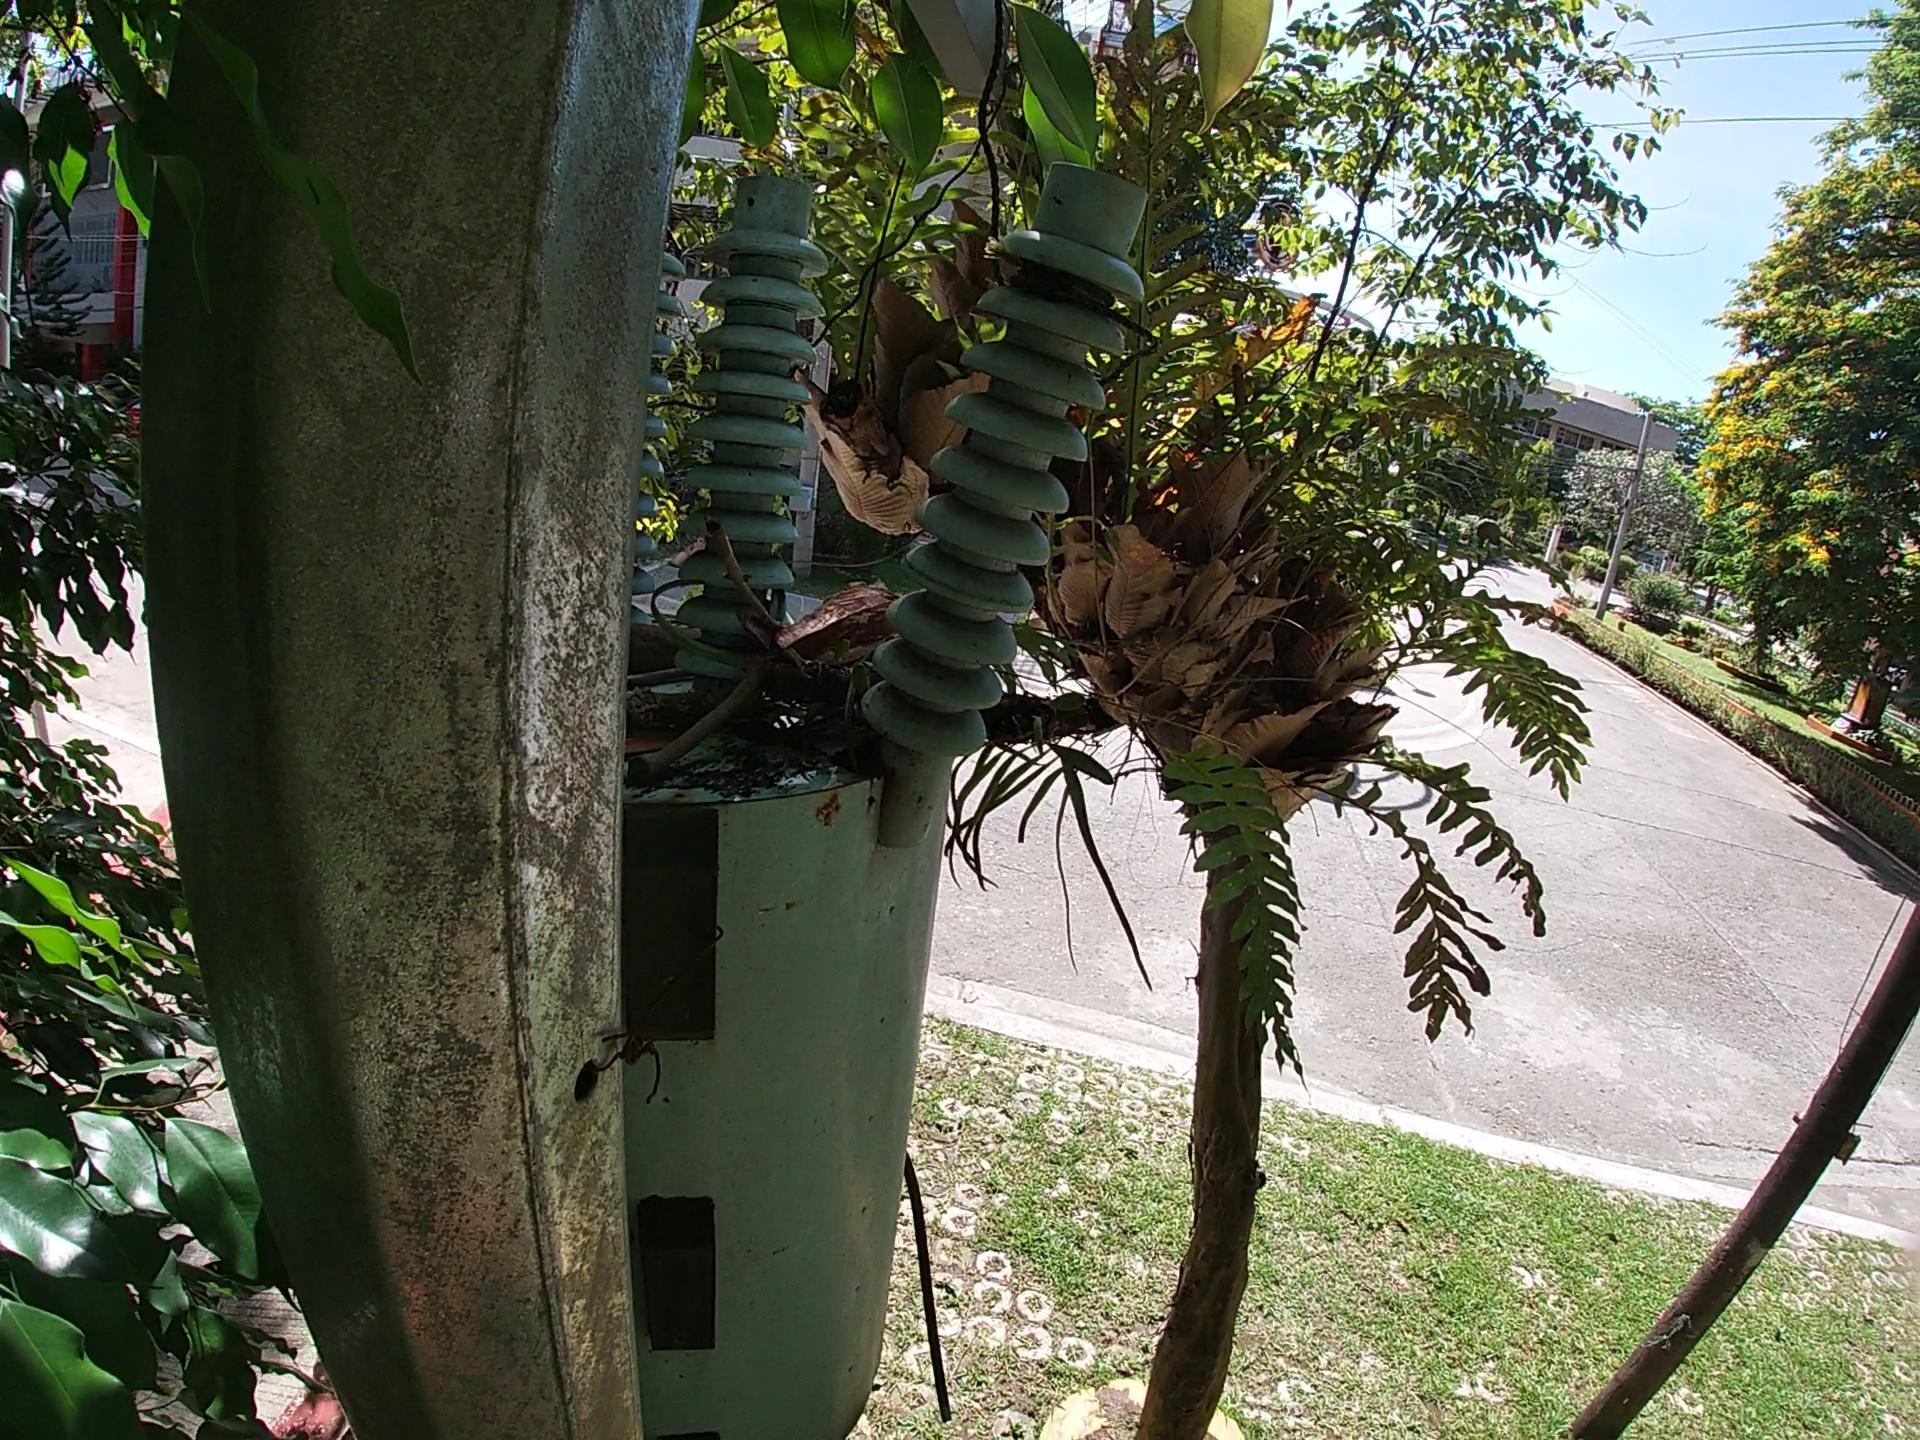branch with leaves: (664, 582, 1076, 784)
leaf: (605, 722, 720, 833)
mahogany fruit: (655, 585, 828, 737)
tree branch: (643, 682, 739, 793)
